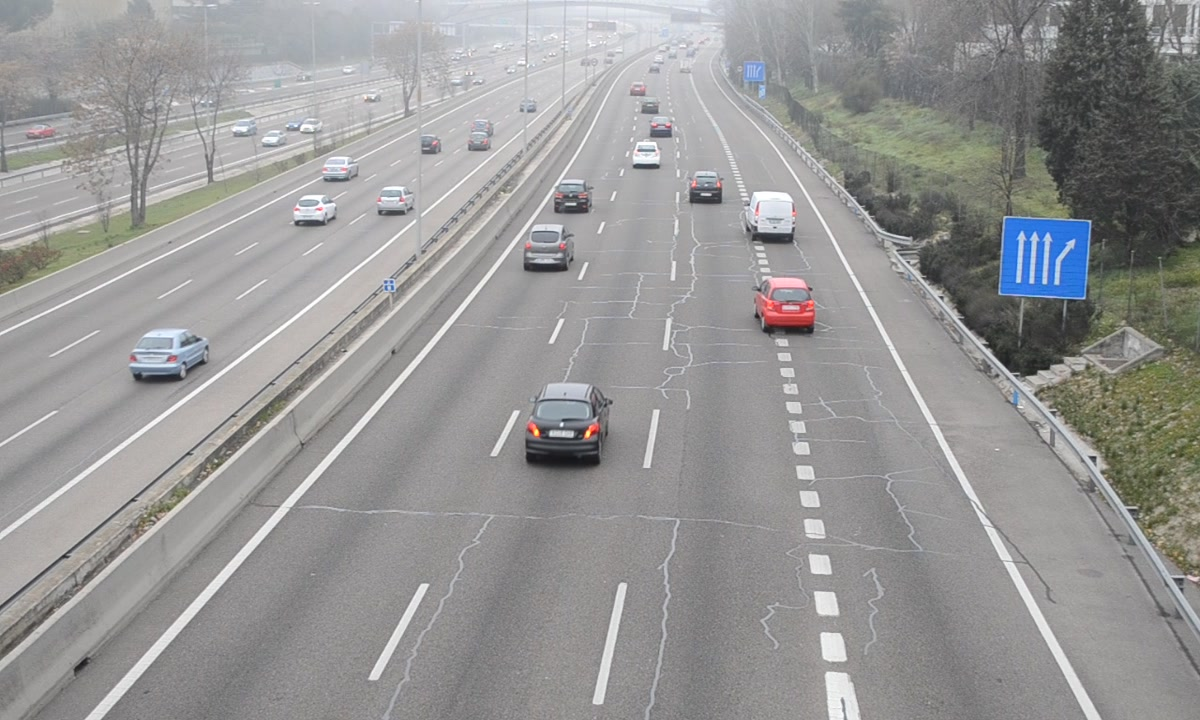car: (525, 383, 608, 465), (753, 275, 815, 330), (523, 224, 570, 267), (552, 180, 591, 212), (688, 170, 724, 202), (629, 137, 663, 169)
van: (745, 189, 797, 243)
